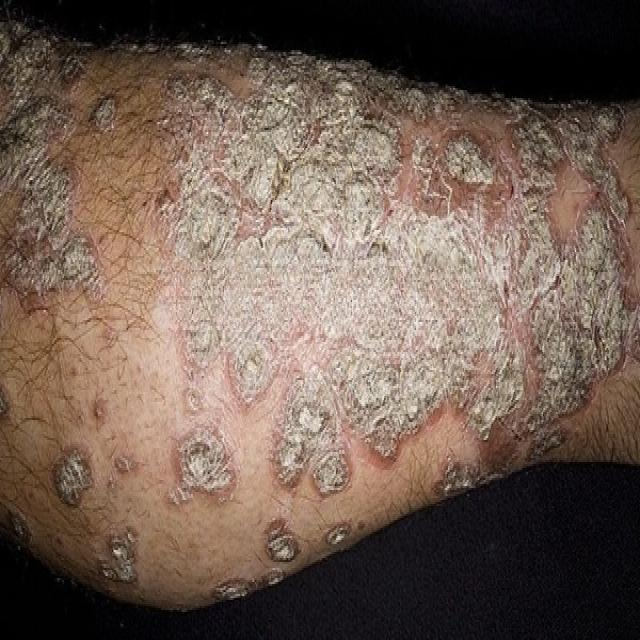Psoriasis Vulgar: (0, 14, 639, 606)
